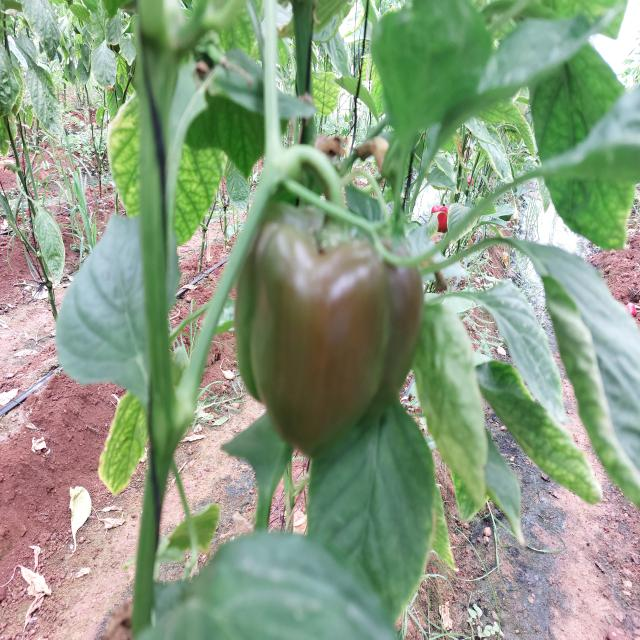BrownishRed--Can-be-Harvested: (245, 193, 418, 454)
